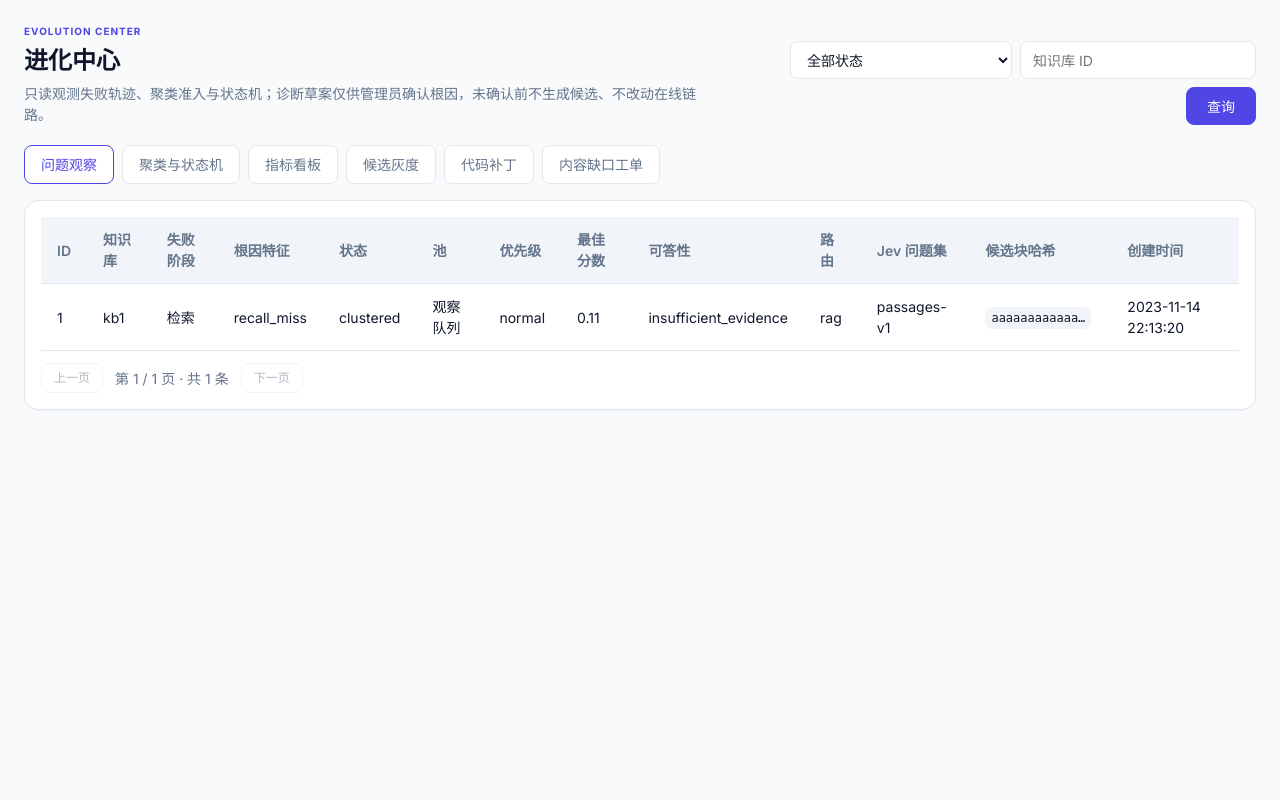
EvolutionCenterView member-draft review › shows an explicit empty state when no member has a draft
The image size is (1280, 800).
Step 1. Click the button with test id "tab-clusters" → {"x": 181, "y": 164}, box [122,145,240,184]
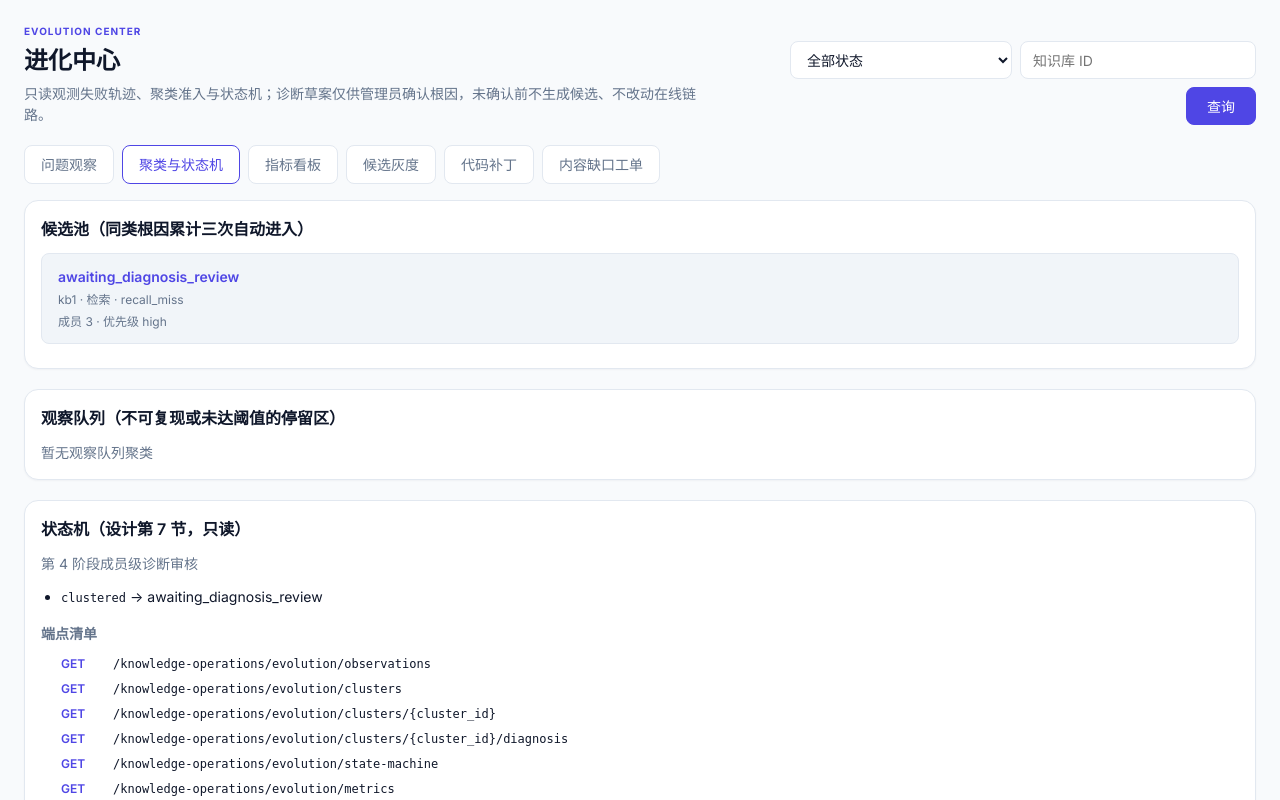
Step 2. Click the button with test id "cluster-card" → {"x": 149, "y": 276}, box [41,253,1239,344]
(page scrolled)
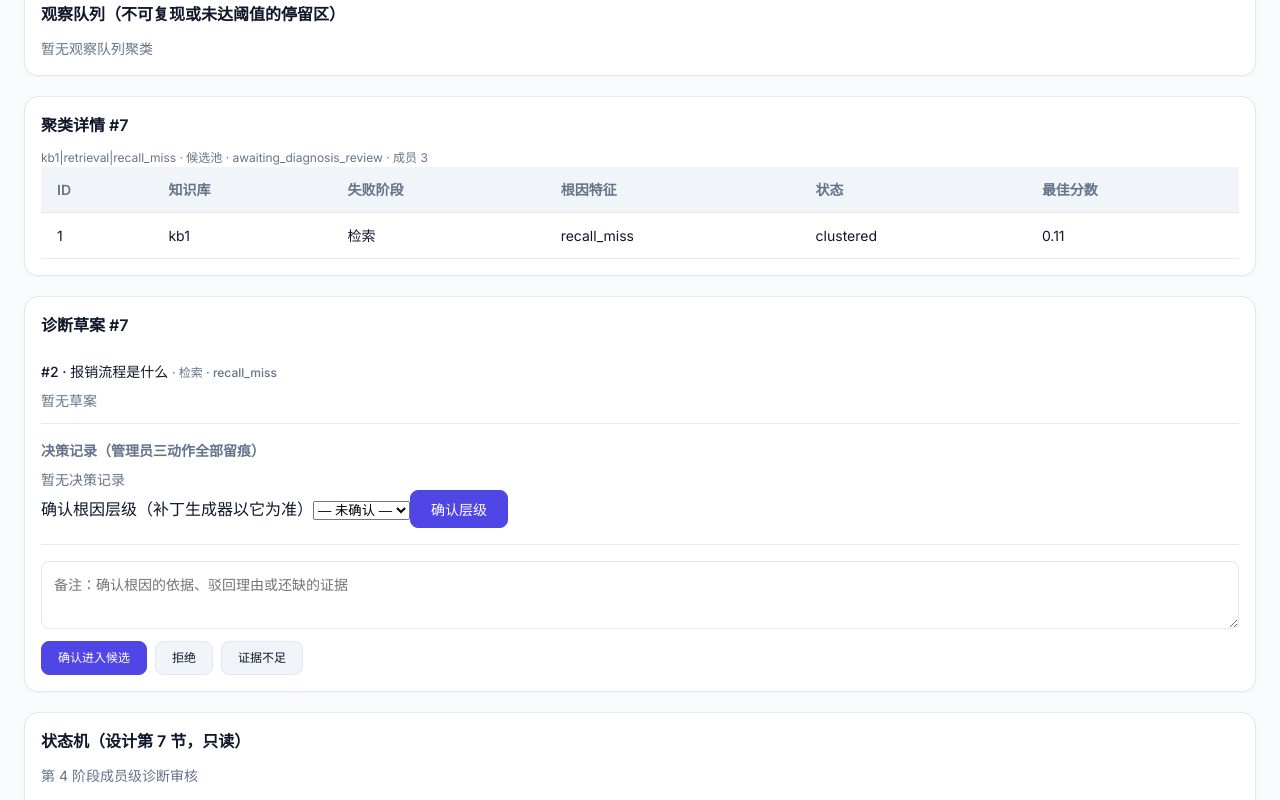
Check: the text with test id "member-draft-empty" reads "暂无草案", box [41,392,97,409]
Check: the number of buttons with test id "decision-approve" is 1, box [41,641,147,675]
